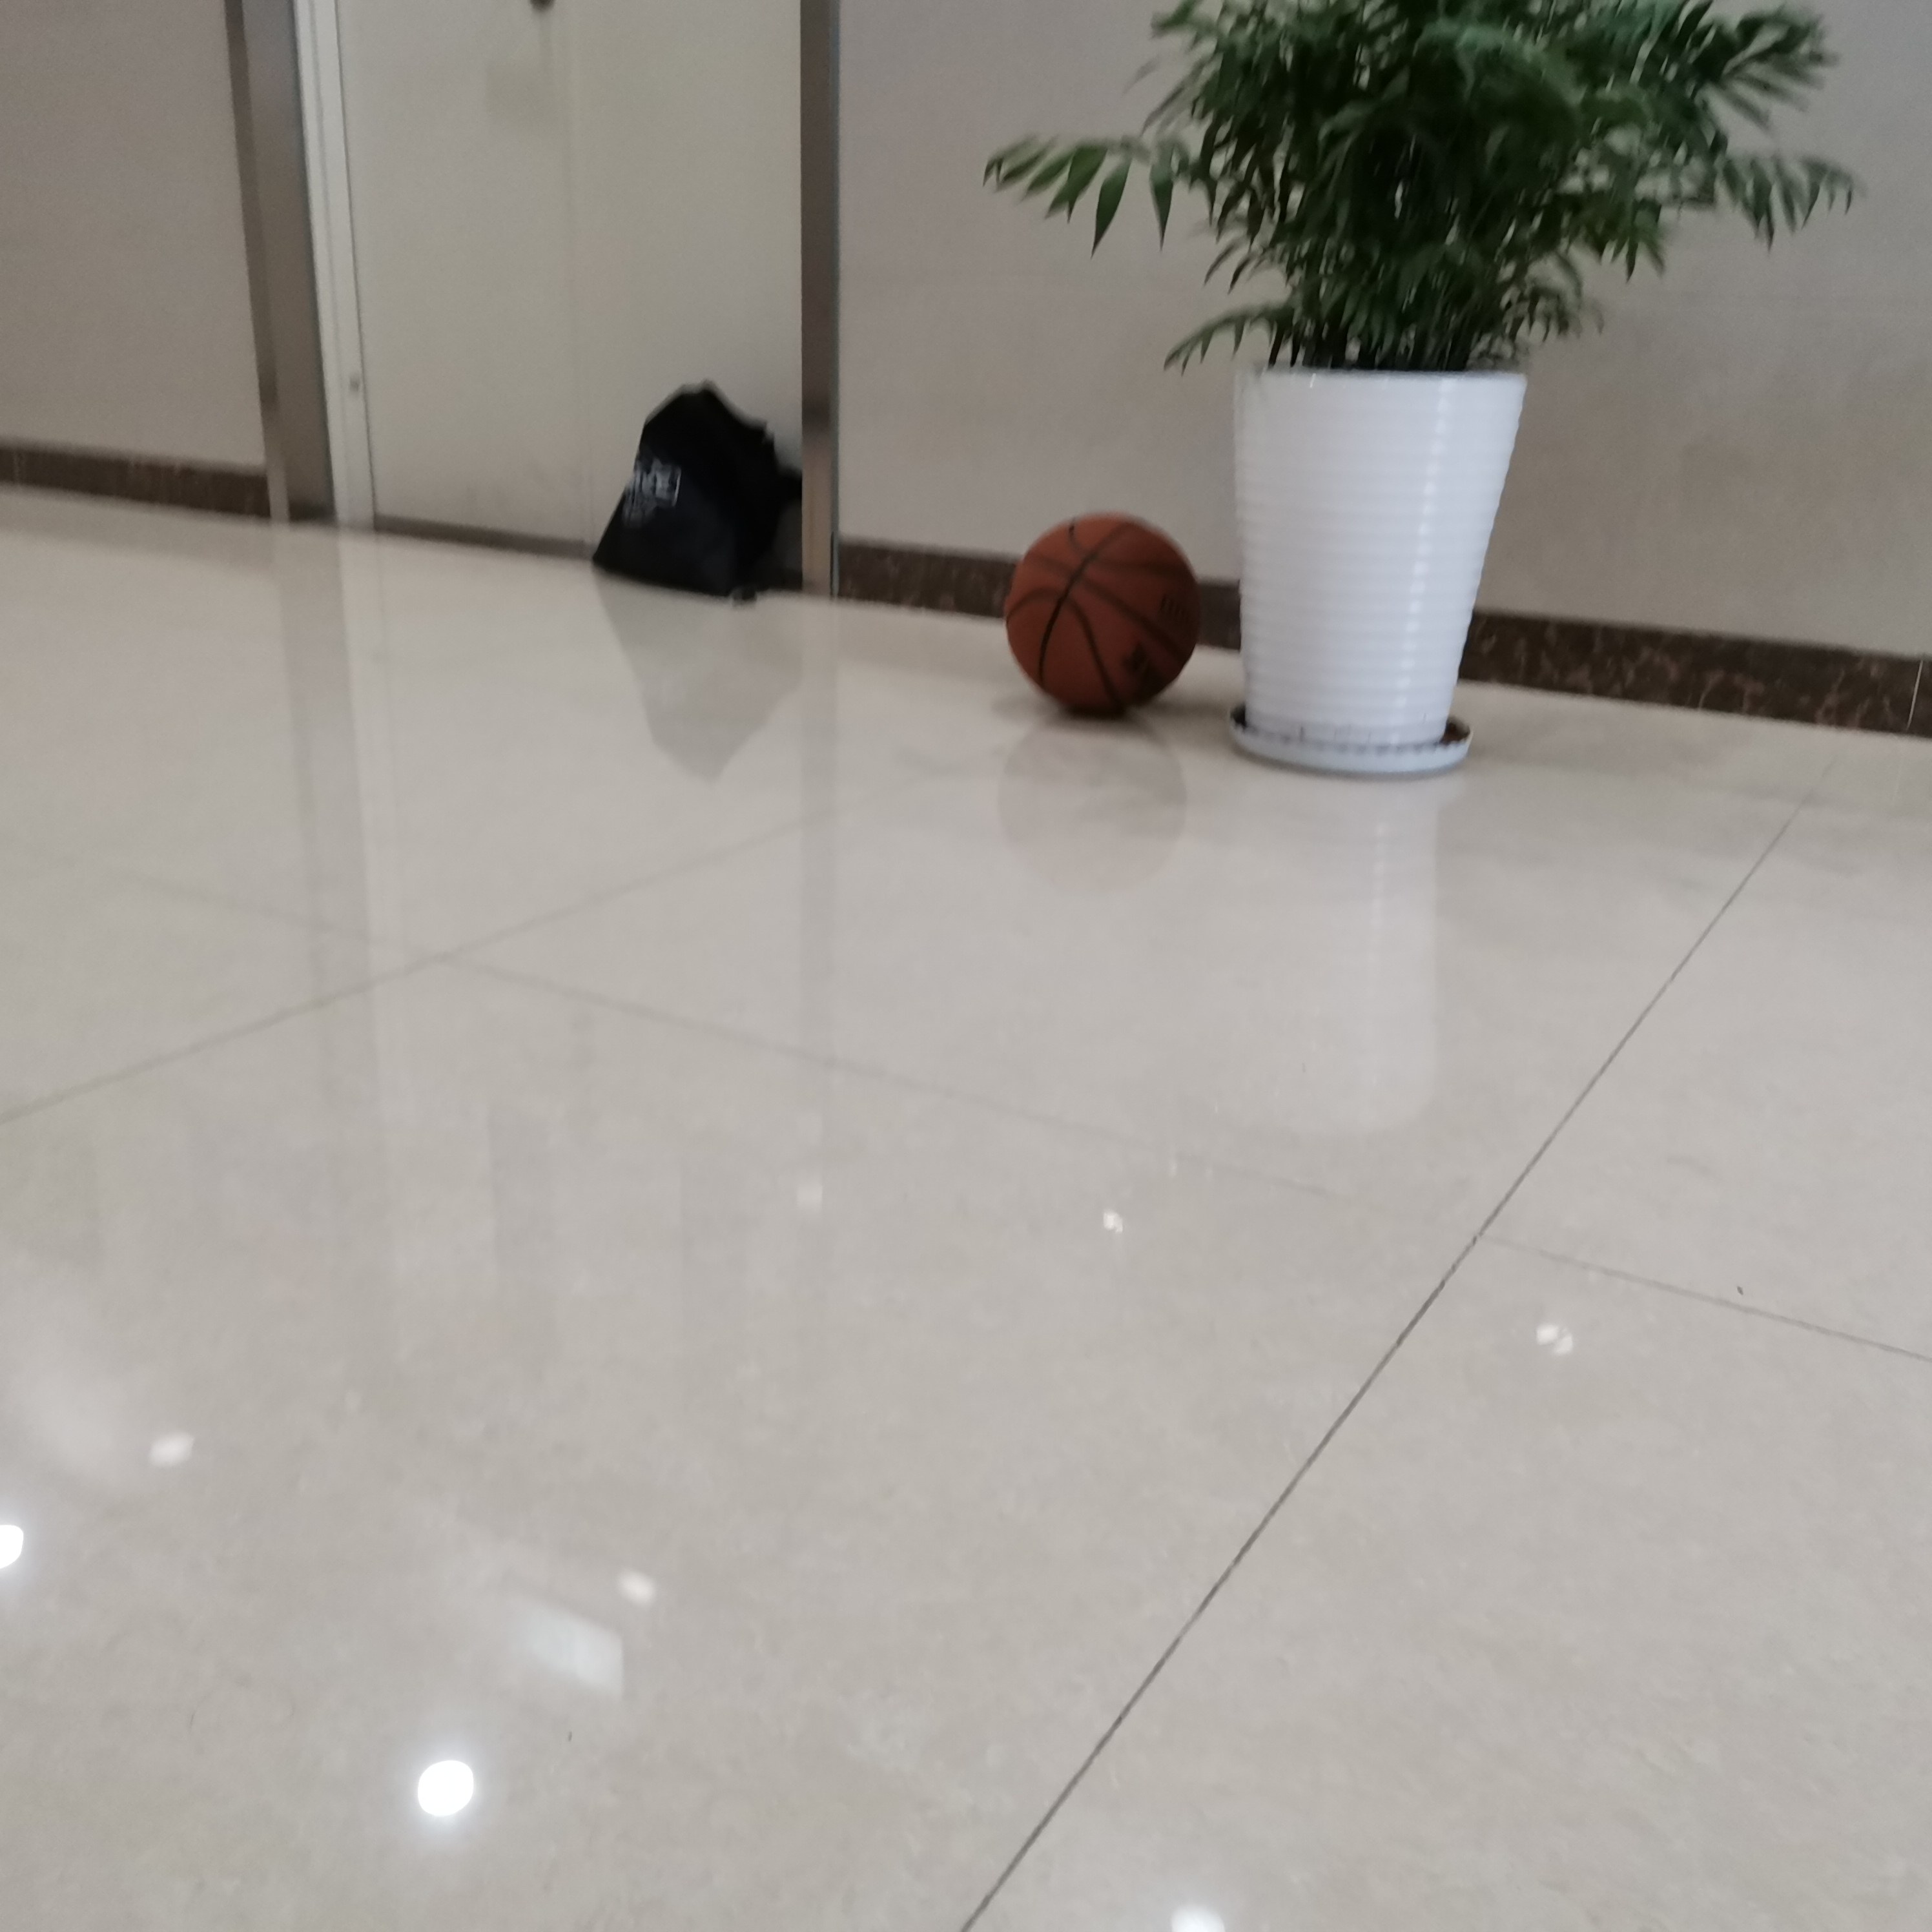basketball: (1003, 513, 1203, 720)
